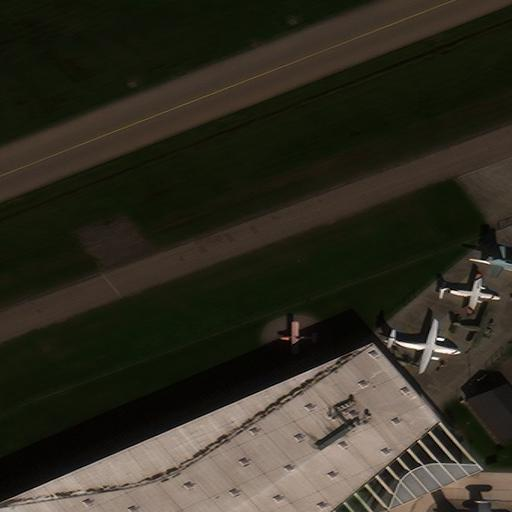Medium Civil Transport: (383, 321, 461, 371)
Military Transport: (468, 242, 512, 299), (438, 274, 501, 313), (451, 306, 495, 347)
Small Civil Transport: (279, 322, 318, 355)
